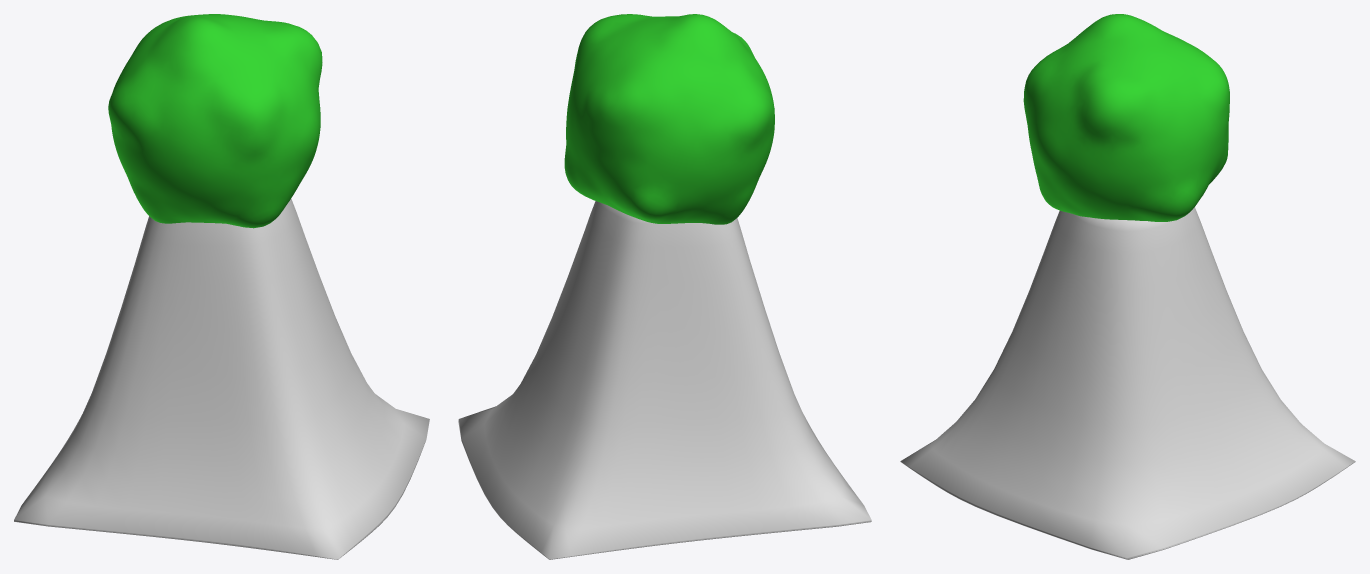
Rendered from Lamp.fbx.
3 renders of one model, left to right at view 1: azimuth 30°, elevation 25°; view 2: azimuth 150°, elevation 25°; view 3: azimuth 270°, elevation 25°, orthographic. The views are drawn at different scales.
Visible parts, largest first — view 1: Lamp, Light Source; view 2: Lamp, Light Source; view 3: Lamp, Light Source.
Part boxes in pixels (x1,y1,x2,y2): Lamp: (14, 198, 429, 559); Light Source: (108, 14, 322, 228); Lamp: (458, 201, 871, 559); Light Source: (564, 14, 774, 224); Lamp: (900, 207, 1355, 559); Light Source: (1023, 14, 1229, 221).
Size of the model in its own units: 99.87 by 106 by 100.
